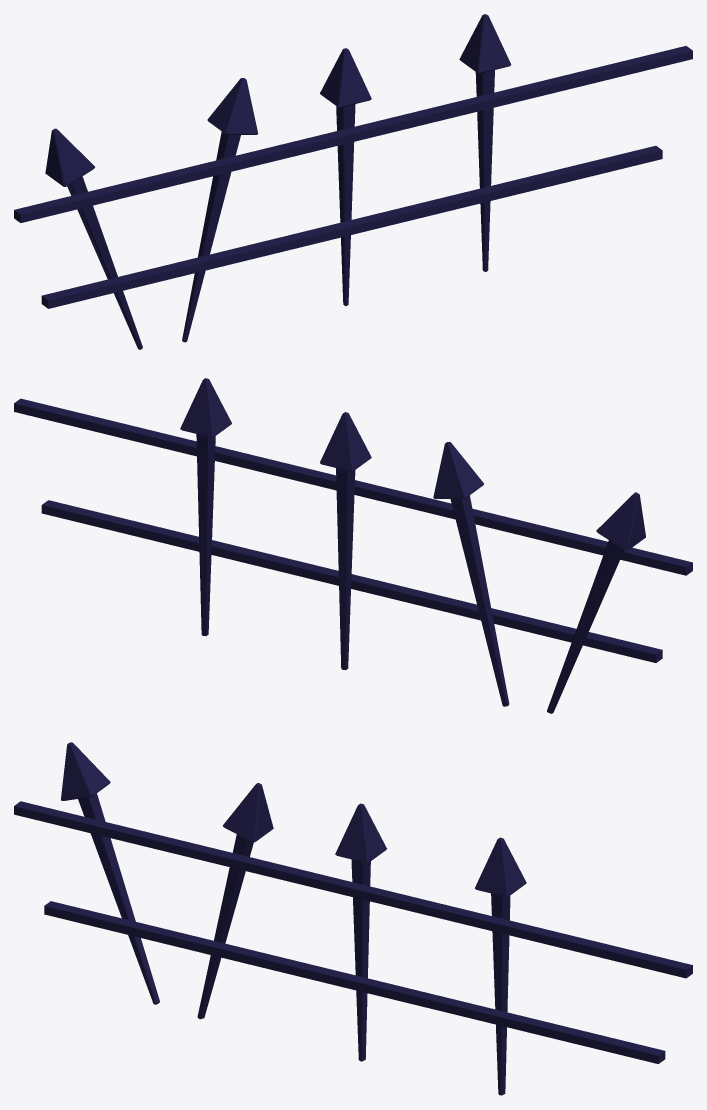
File: MetalFence.fbx
The picture shows the model from 3 angles, top to bottom: view 1: azimuth 30°, elevation 25°; view 2: azimuth 150°, elevation 25°; view 3: azimuth 330°, elevation 25°; orthographic projection.
Parts seen in each view (by area): view 1: pCube26; view 2: pCube26; view 3: pCube26.
Part boxes in pixels (box(x1,y1,x2,y2)): pCube26: box(14, 14, 692, 349); pCube26: box(14, 378, 692, 713); pCube26: box(14, 742, 692, 1095).
Size of the model in its own units: 2284 by 833 by 123.
